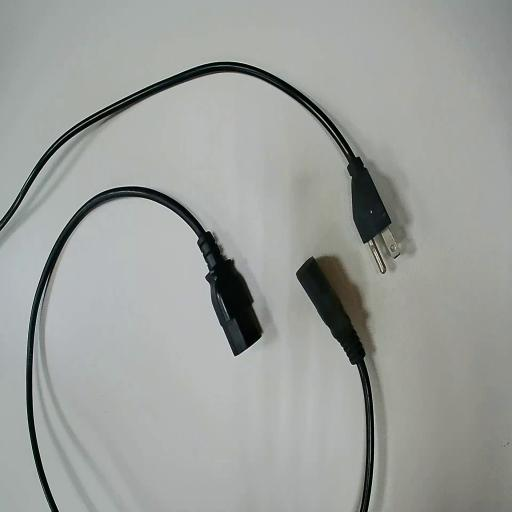wire: (27, 187, 261, 511), (0, 63, 390, 241), (298, 258, 372, 511)
